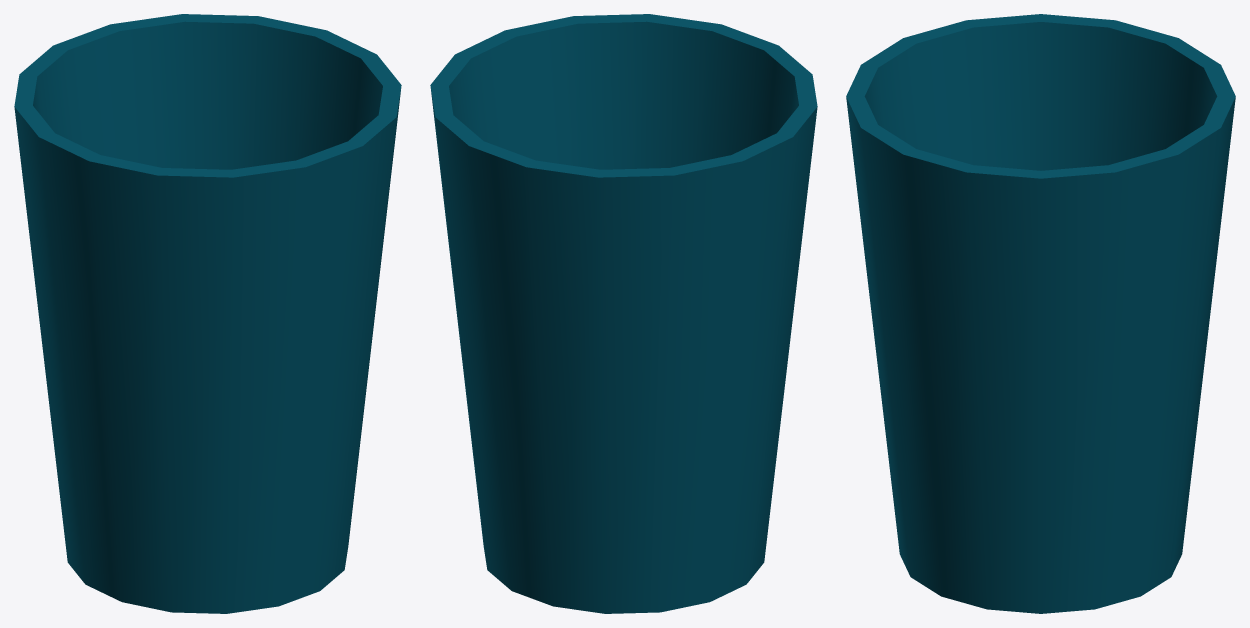
Rendered from MS_WaterCup.fbx.
The picture shows the model from 3 angles, left to right: view 1: azimuth 30°, elevation 25°; view 2: azimuth 150°, elevation 25°; view 3: azimuth 270°, elevation 25°; orthographic projection.
Visible parts, largest first — view 1: MS_WaterCup; view 2: MS_WaterCup; view 3: MS_WaterCup.
Boxes of the visible parts, x1,y1,x2,y2 form: MS_WaterCup: [14, 14, 401, 613]; MS_WaterCup: [430, 14, 817, 613]; MS_WaterCup: [846, 14, 1235, 613].
Bounding box in the file's own units: 12.16 × 15.77 × 12.16.
